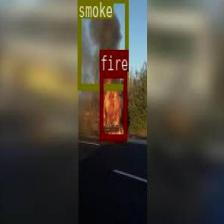fire: (99, 72, 126, 138)
smoke: (78, 0, 128, 90)
